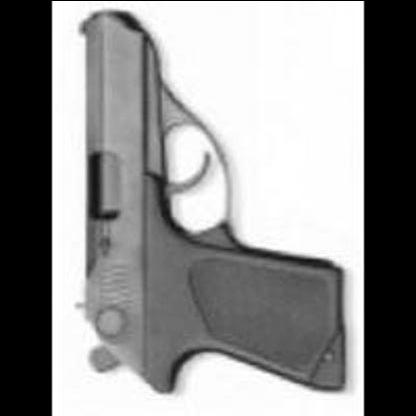weapon: (67, 3, 351, 402)
